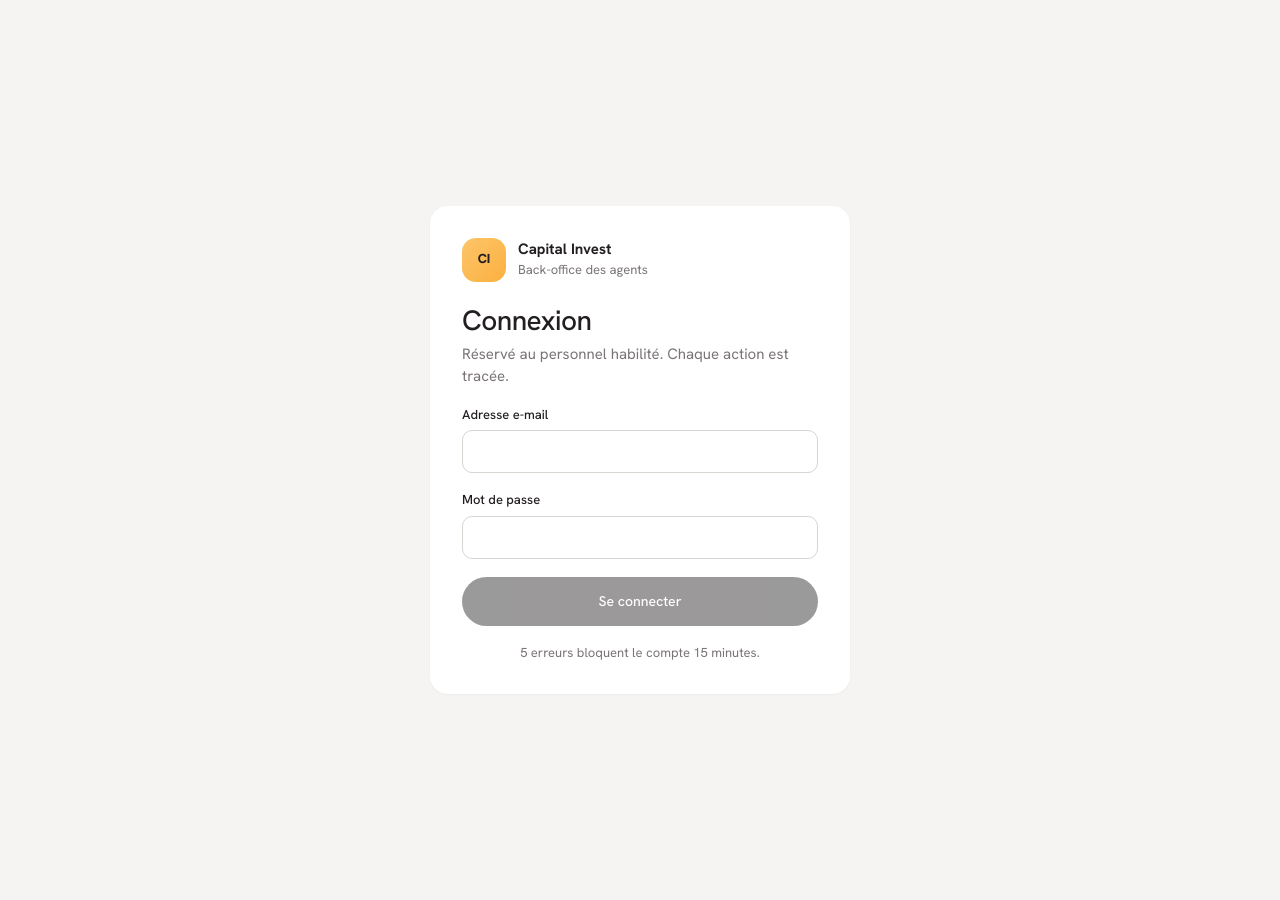
Test: clients › la fiche client montre ses envois programmés et ses réclamations
Type "conformite@capitalinvest.cd" into the field labelled "Adresse e-mail". click: (640, 452)
box: [462, 430, 818, 474]
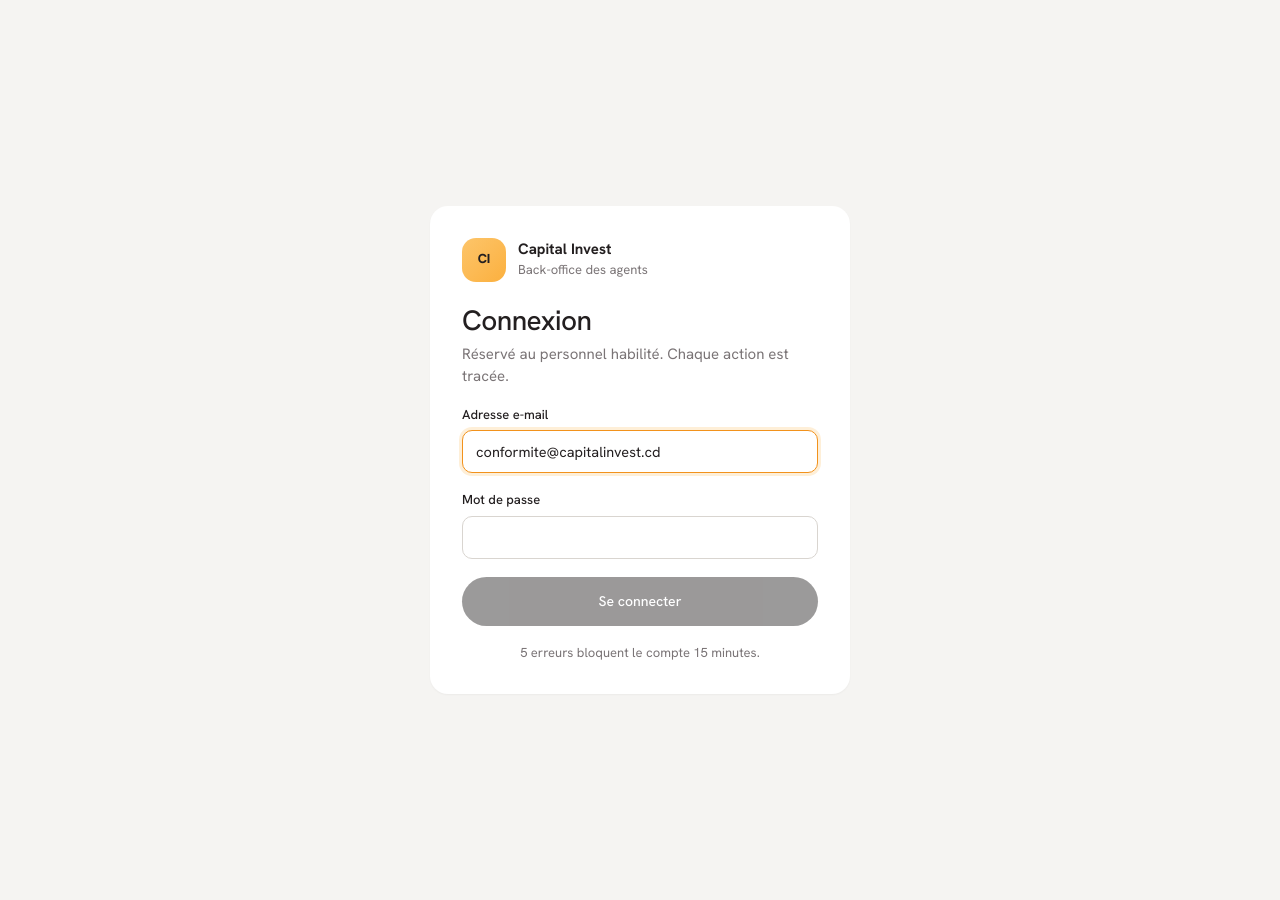
Type "mot-de-passe-solide" into the password field labelled "Mot de passe". click: (640, 538)
box: [462, 516, 818, 559]
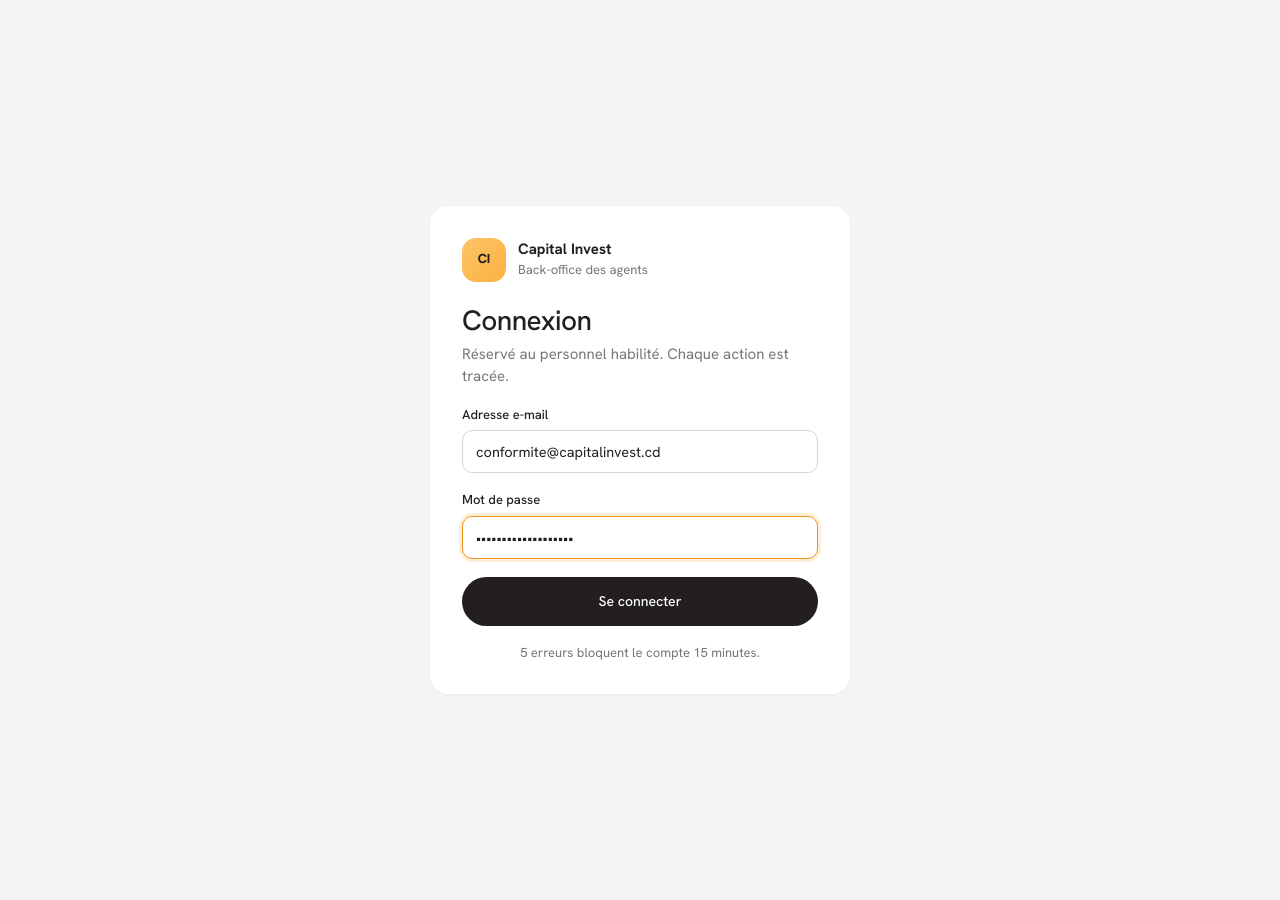
Click the button "Se connecter". click: (640, 601)
box: [462, 577, 818, 626]
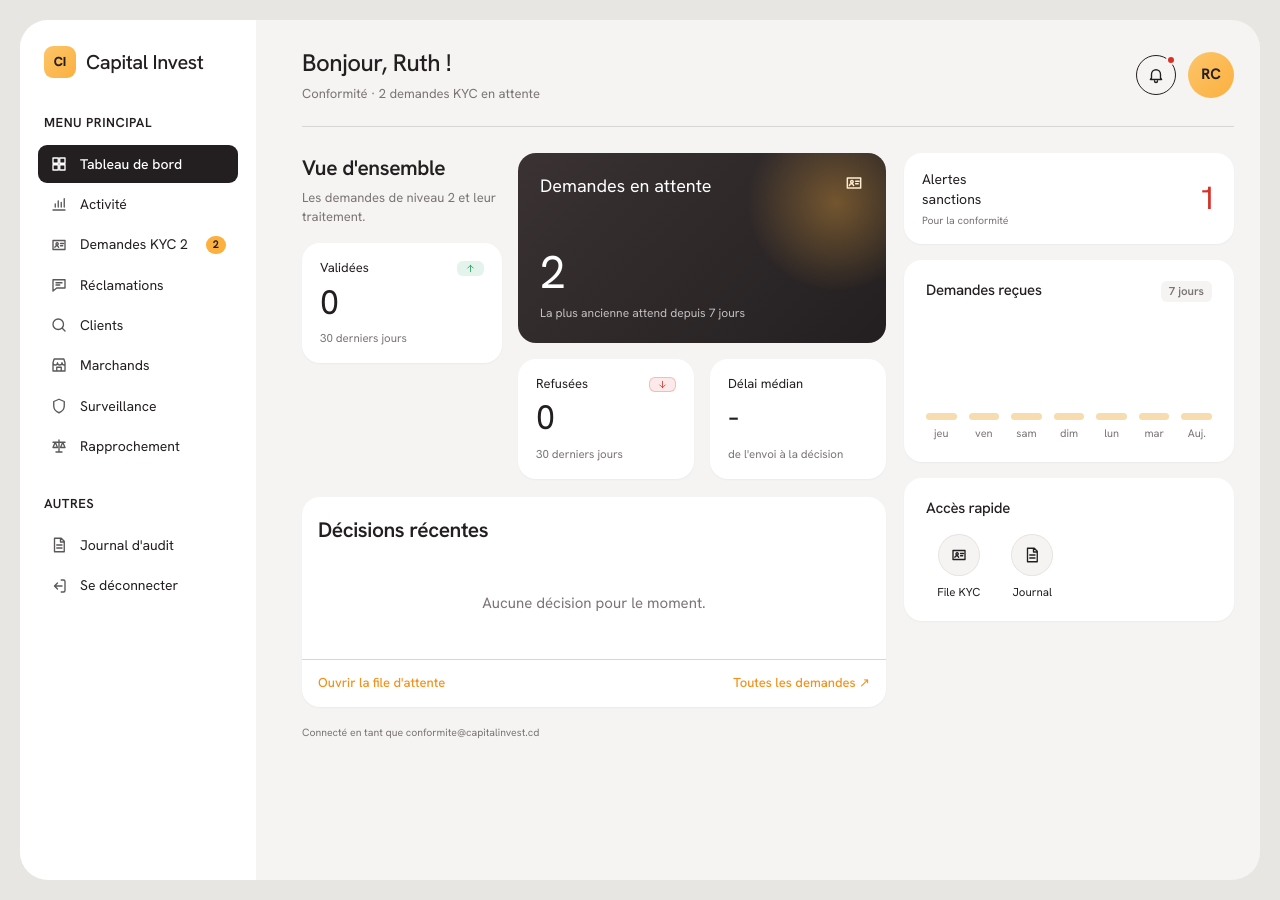
Check: the navigation bar "Menu principal" is shown, box [20, 20, 256, 880]
Click the link "Clients". click: (87, 325)
box: [50, 316, 123, 334]
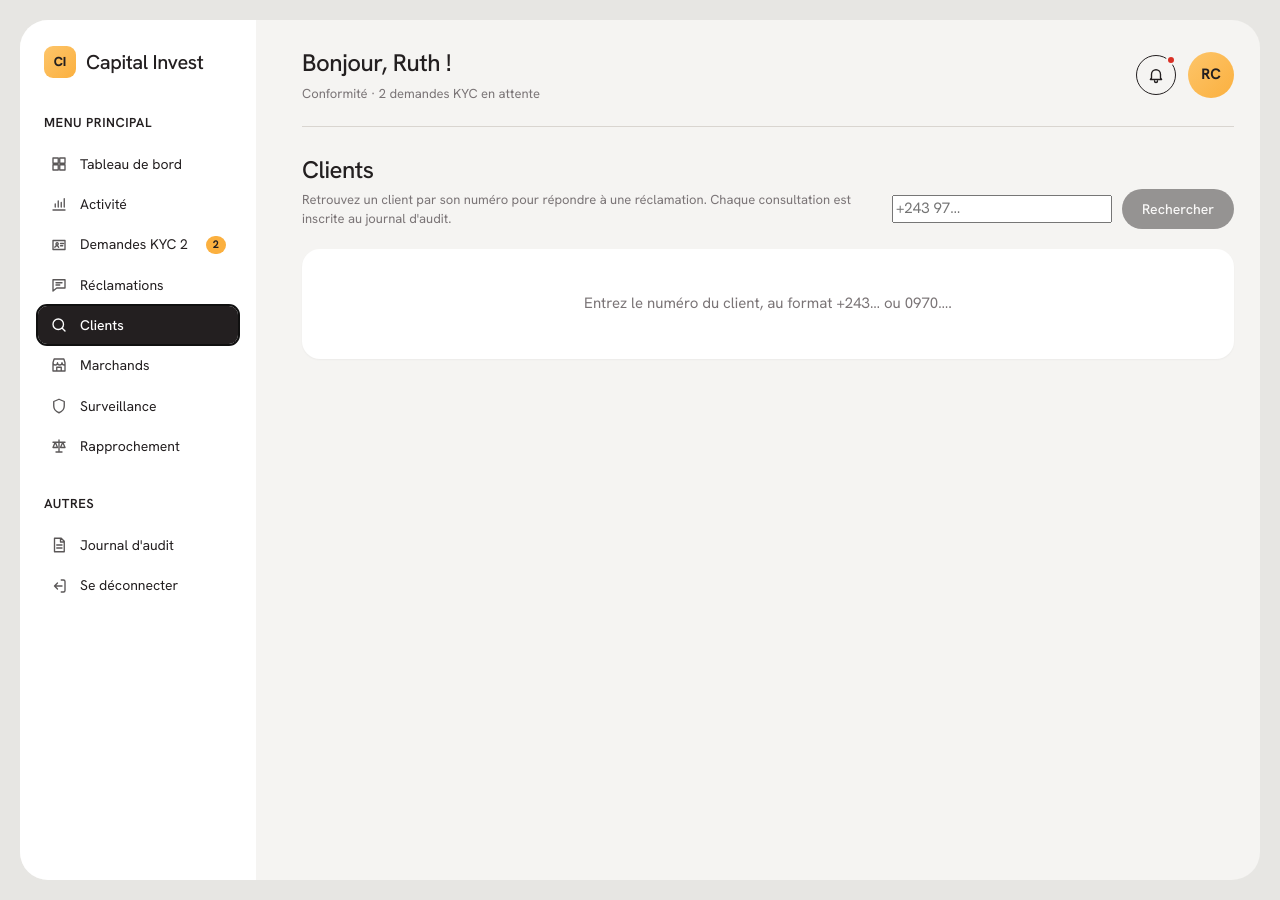
Type "+243970000001" into the field named "Numéro du client". click: (1002, 209)
box: [892, 195, 1112, 223]
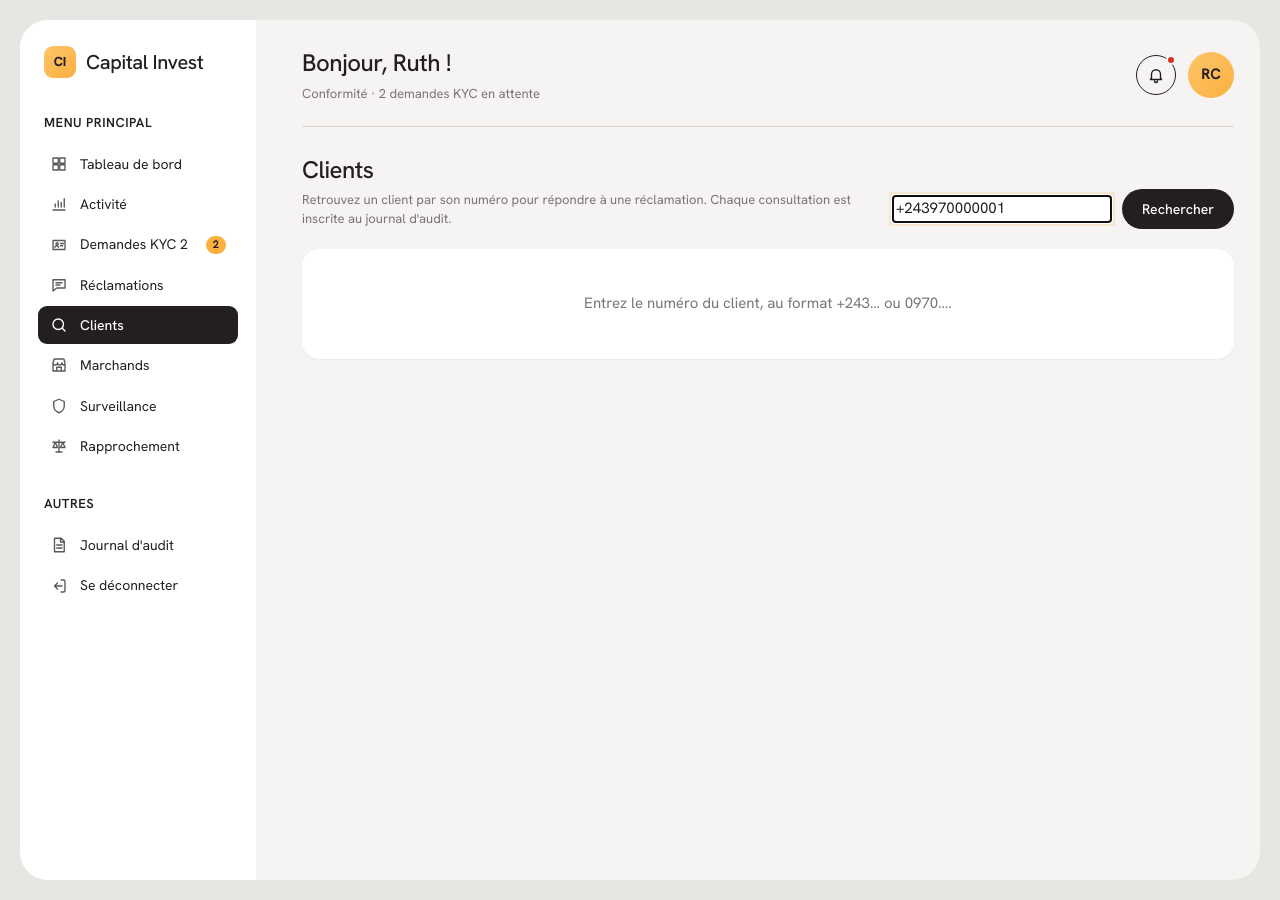
Click the button "Rechercher". click: (1178, 209)
box: [1122, 189, 1234, 229]
(page scrolled)
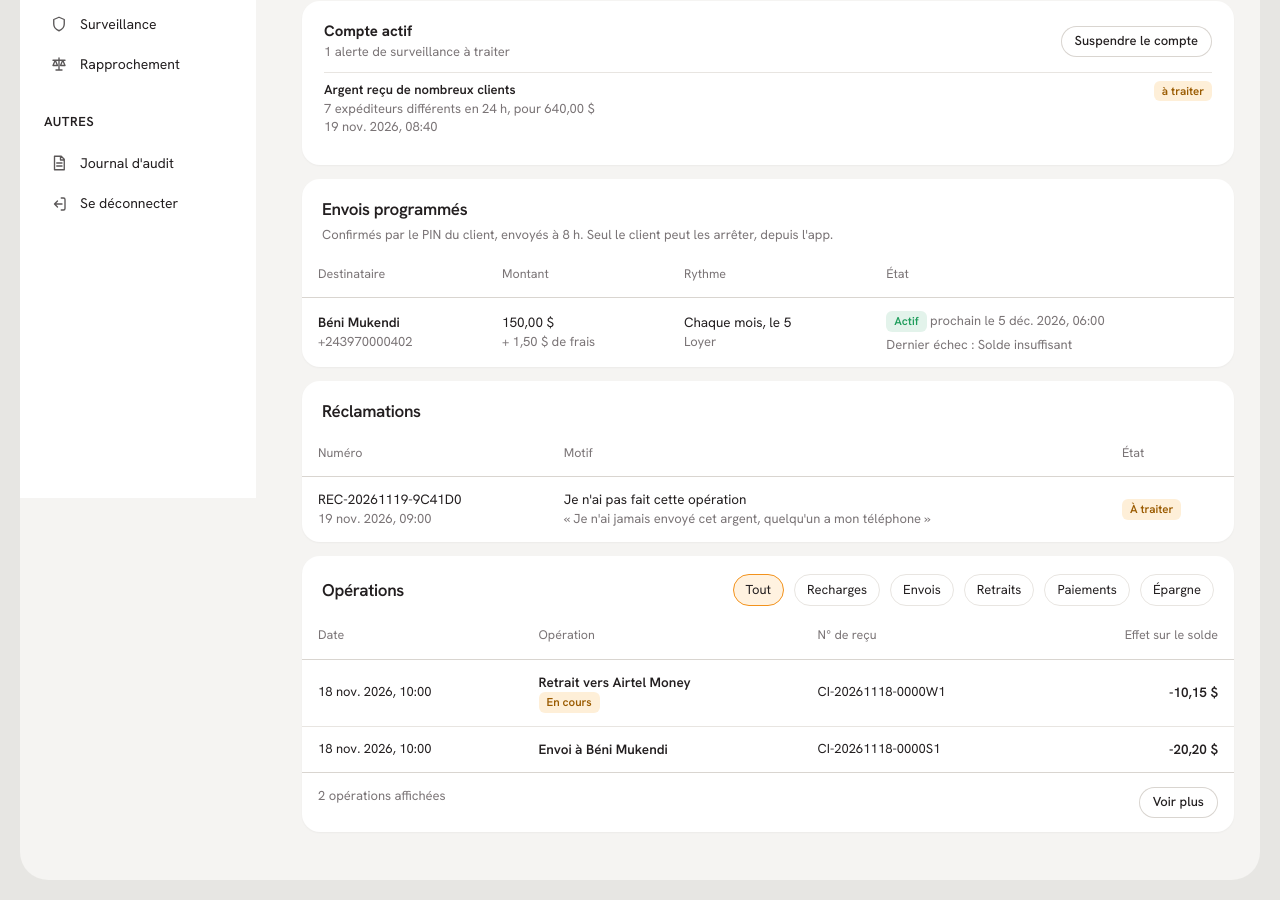
Check: the text "Chaque mois, le 5" is shown, box [684, 313, 791, 331]
Check: the text "+243970000402" is shown, box [318, 333, 413, 350]
Check: the text "Dernier échec : Solde insuffisant" is shown, box [886, 336, 1072, 352]
